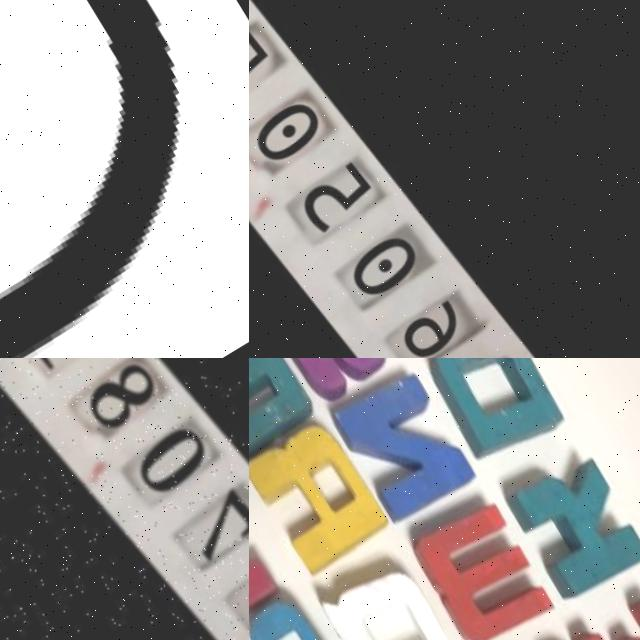0: (329, 214, 444, 320), (118, 407, 232, 513), (249, 80, 345, 185)
1: (11, 358, 125, 385)
5: (282, 147, 394, 251), (249, 15, 292, 119)
6: (384, 282, 489, 358)
7: (165, 472, 249, 581)
8: (65, 358, 181, 450)
9: (223, 539, 249, 640)
C: (0, 0, 182, 358)
D: (408, 358, 568, 467)
K: (497, 436, 640, 601)
M: (249, 358, 318, 462)
N: (323, 358, 474, 520)
P: (249, 588, 365, 640)
Q: (314, 550, 470, 640)
R: (249, 407, 394, 581)
S: (249, 358, 401, 406)
W: (403, 491, 557, 640)
